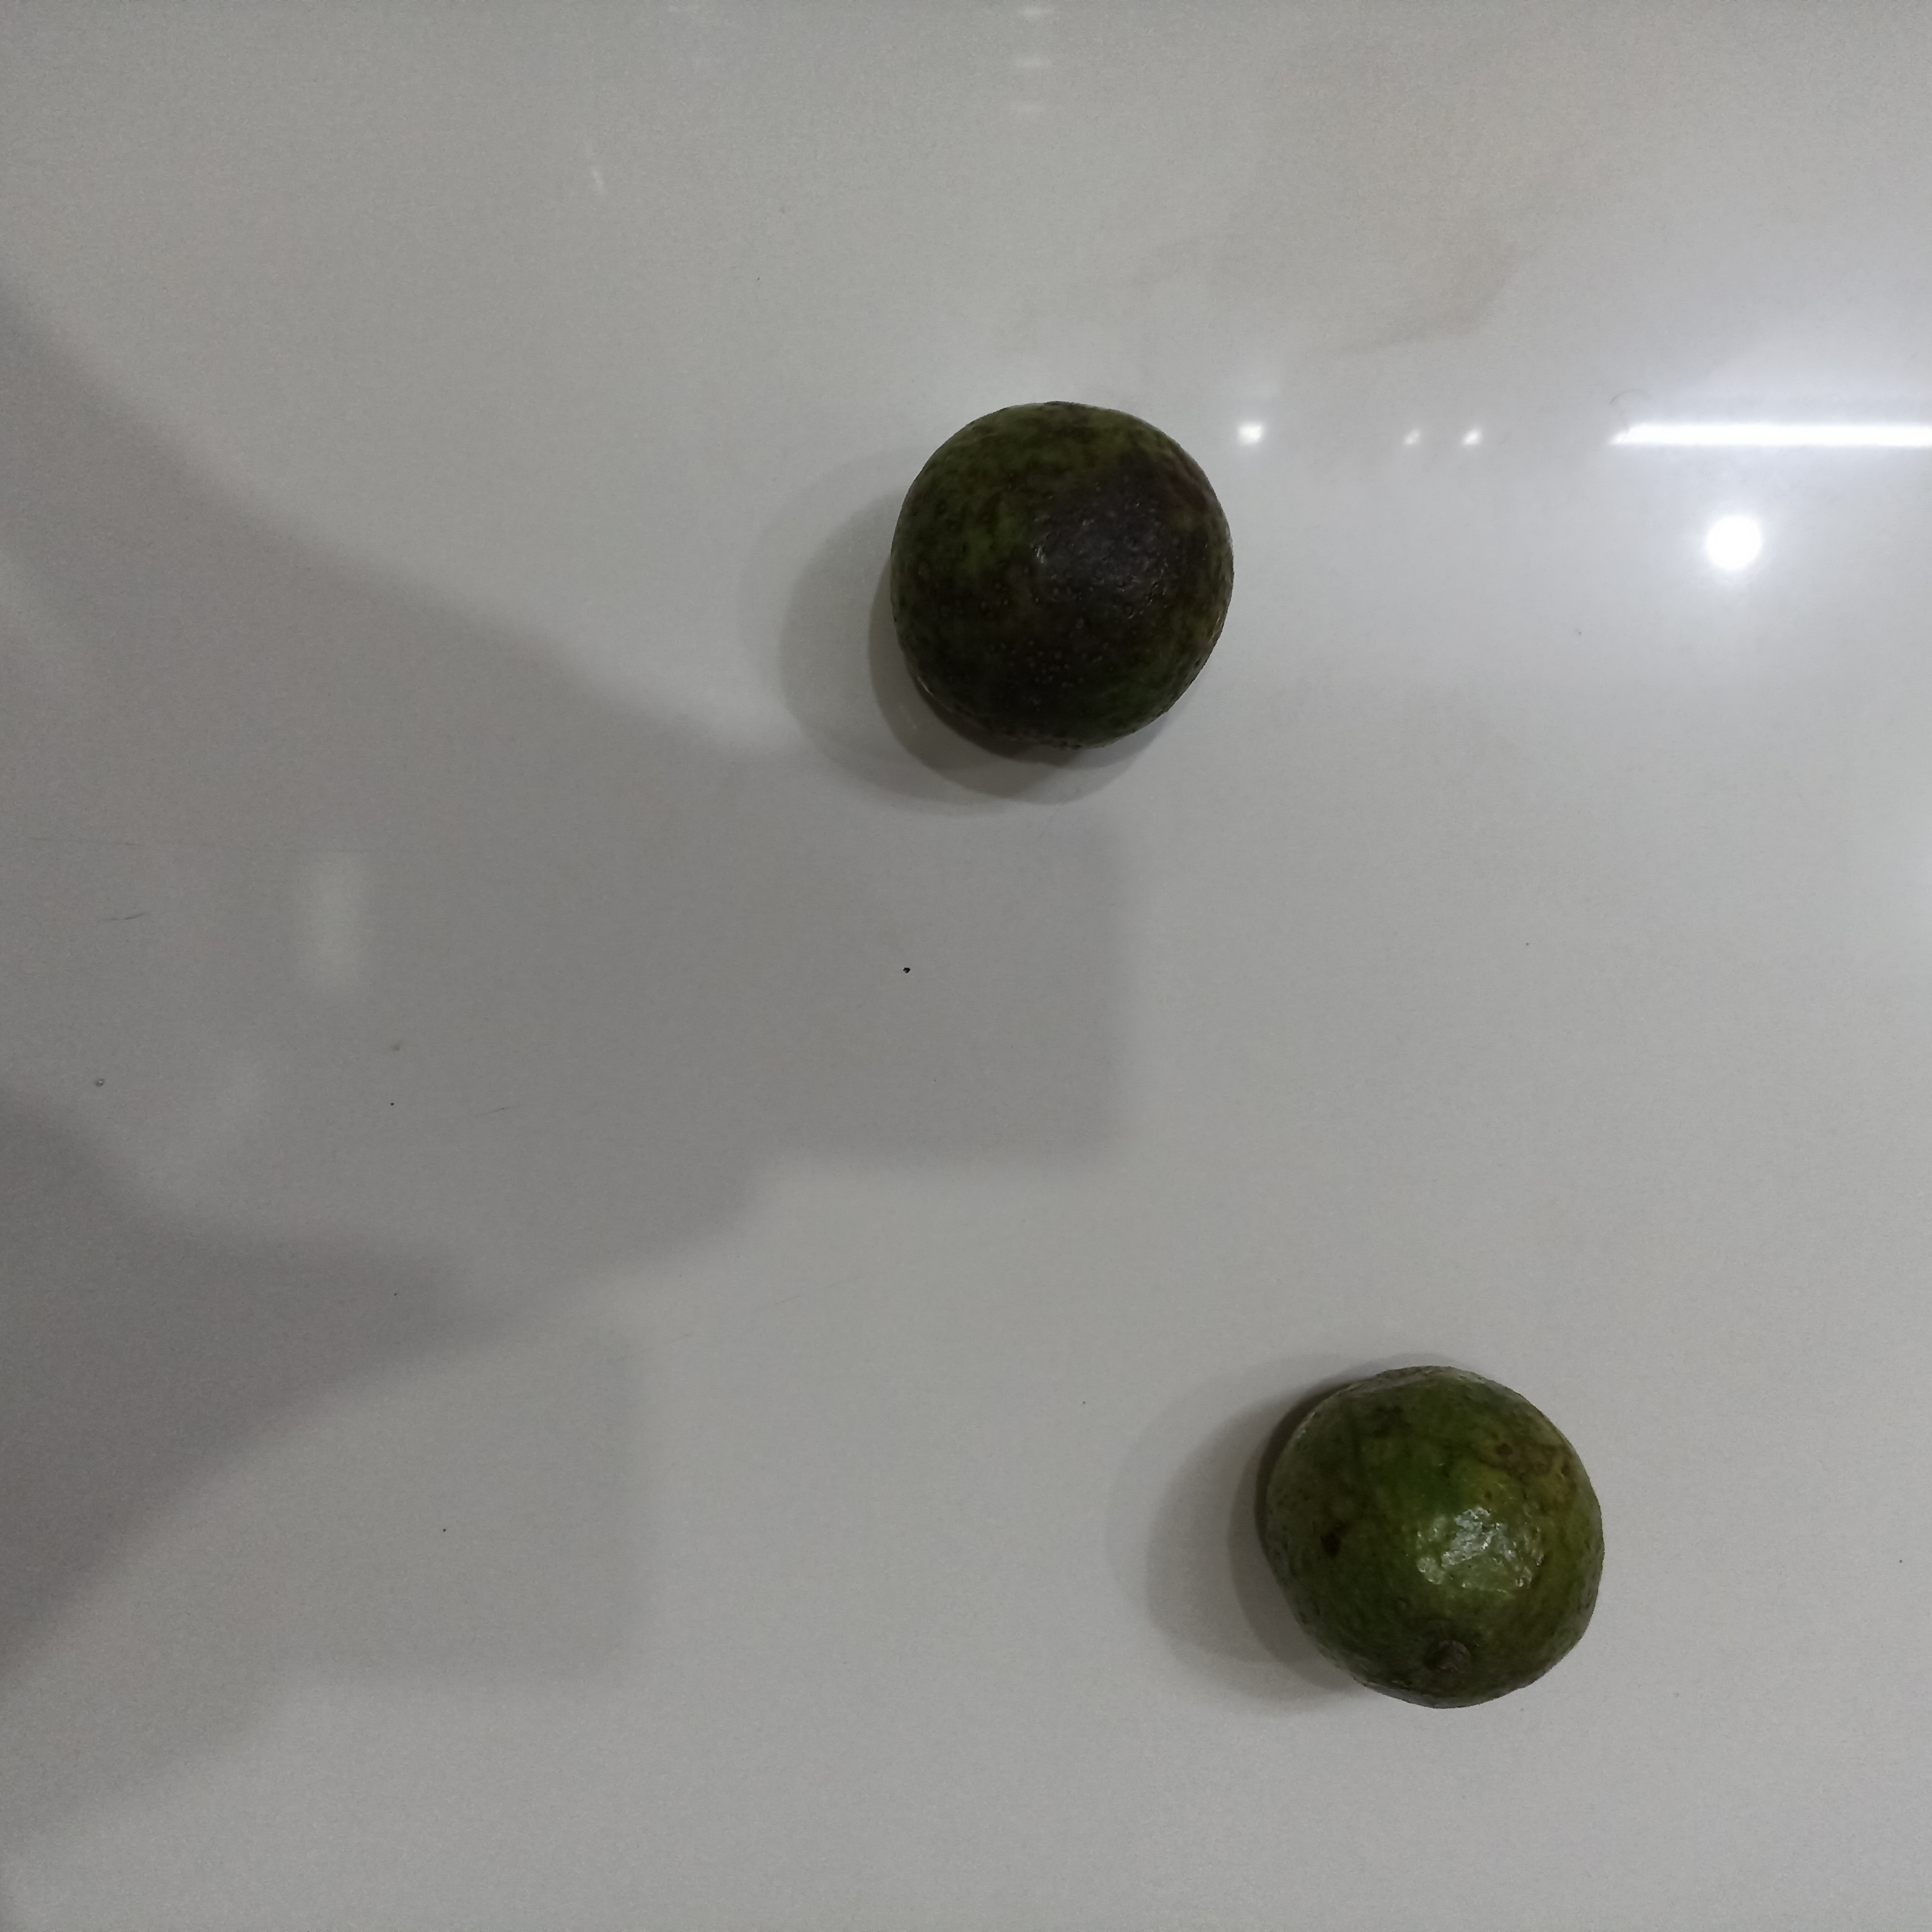Bo: (885, 398, 1231, 757), (1260, 1366, 1610, 1706)
